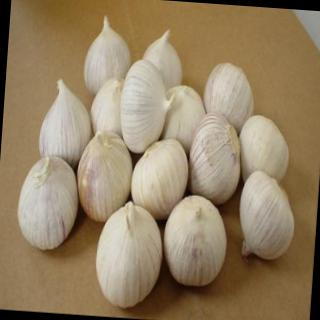Bawang Putih: (92, 199, 167, 312)
